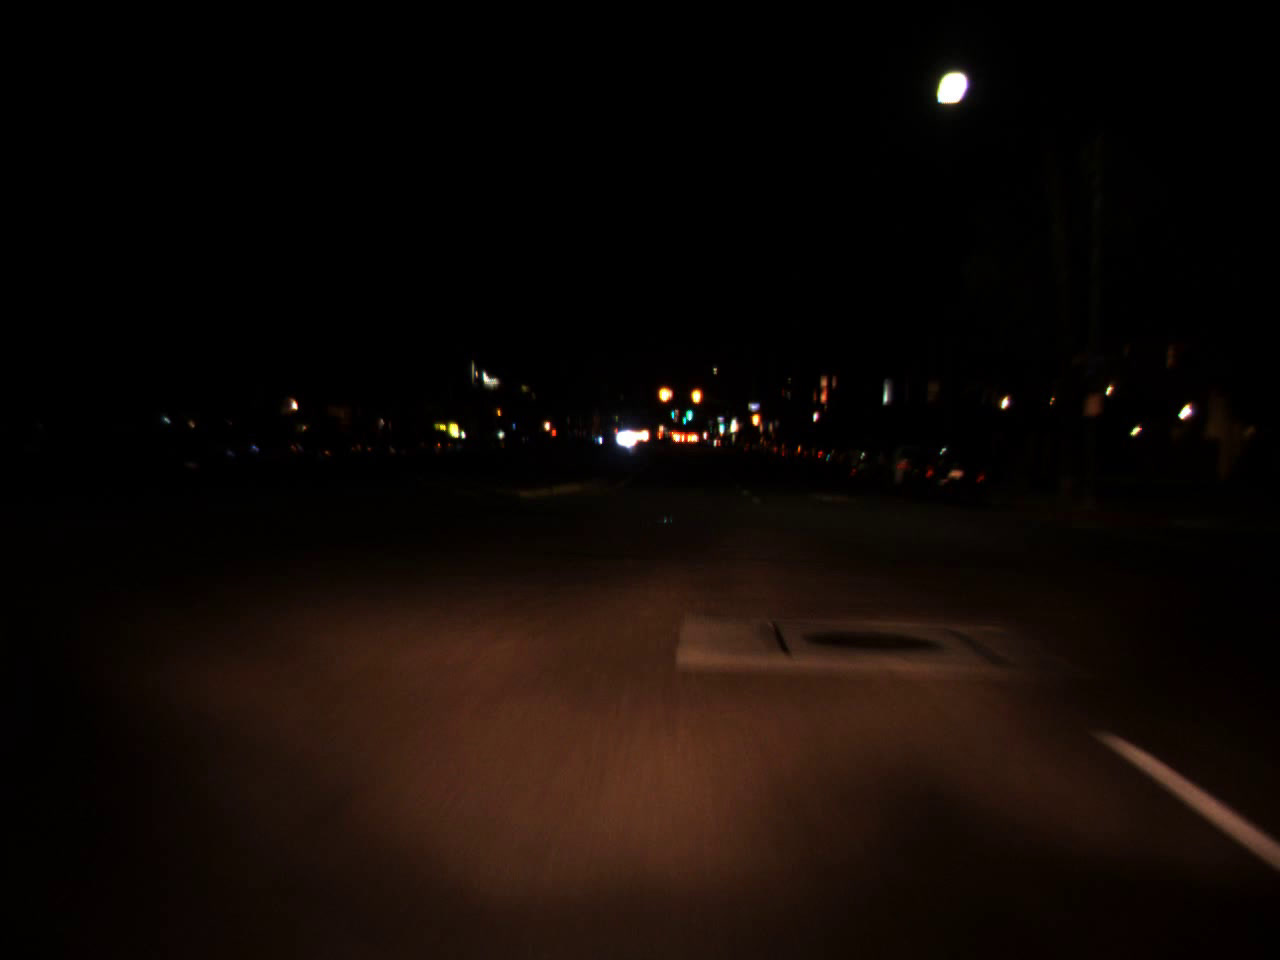go: (683, 397, 693, 424), (718, 412, 725, 436), (681, 405, 688, 429)
warning: (689, 378, 707, 410), (657, 379, 673, 409), (750, 406, 762, 428)
